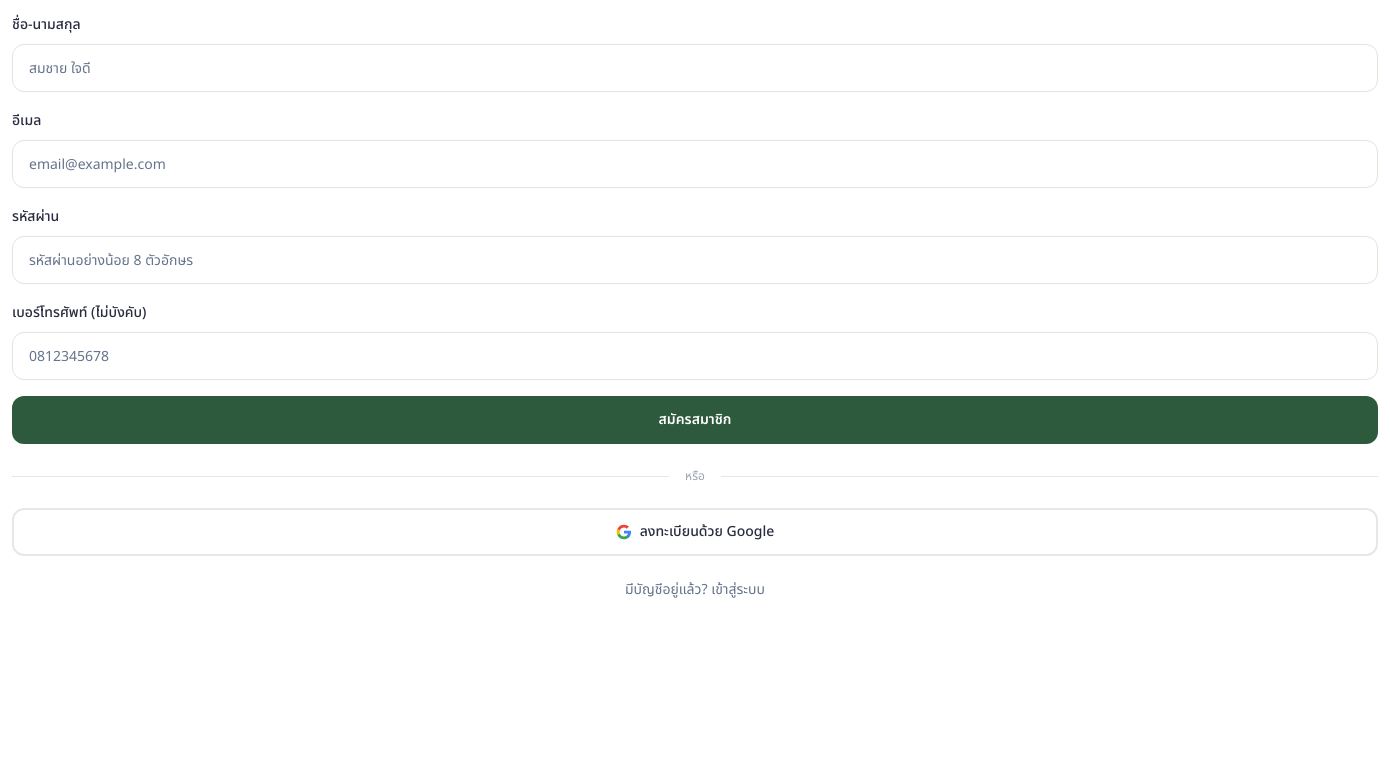
SignupForm › Validation › shows validation error for weak password (too short)
Type "short" into the password field labelled "รหัสผ่าน". click: (695, 260)
box: [12,236,1378,284]
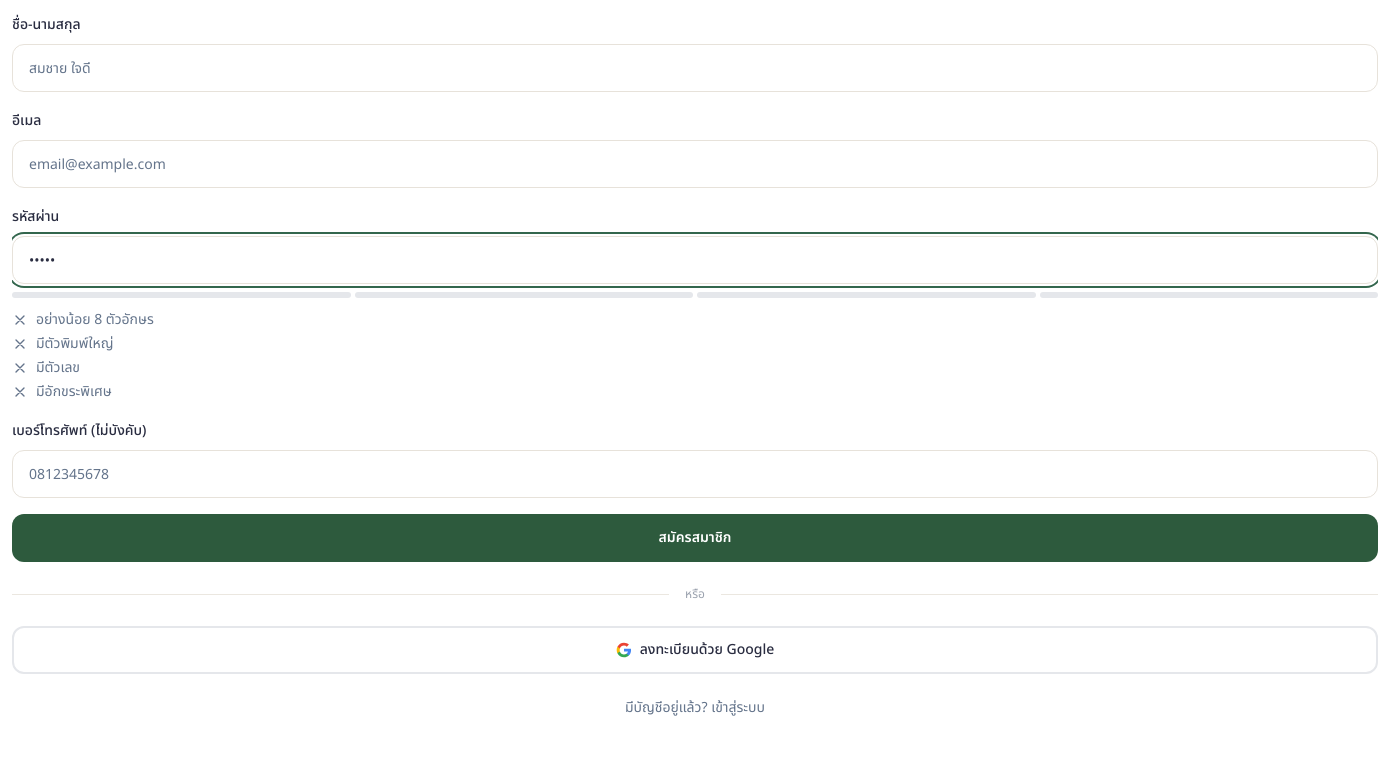
Click the button "สมัครสมาชิก". click: (695, 538)
box: [12,514,1378,562]
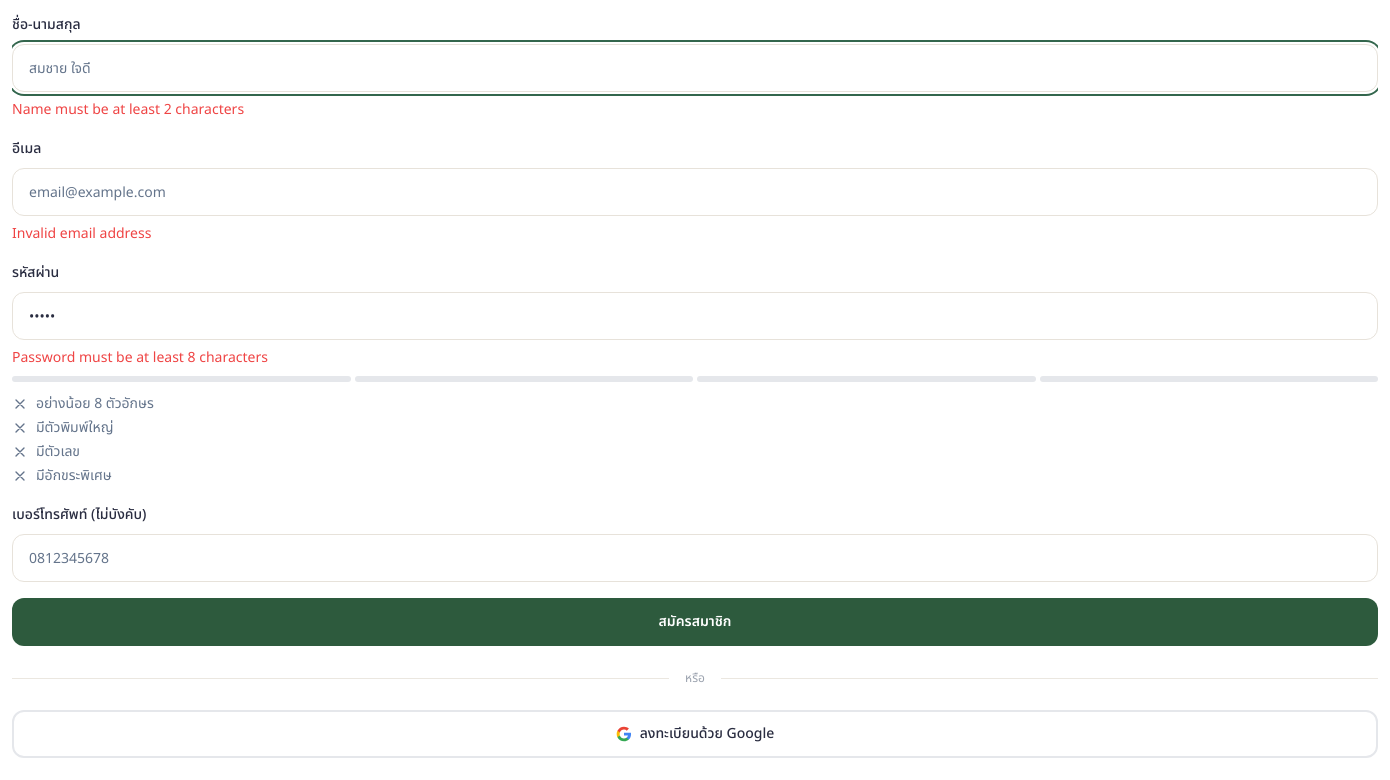
Expected: the text "Password must be at least 8 characters" is shown, [12,347,268,368]
